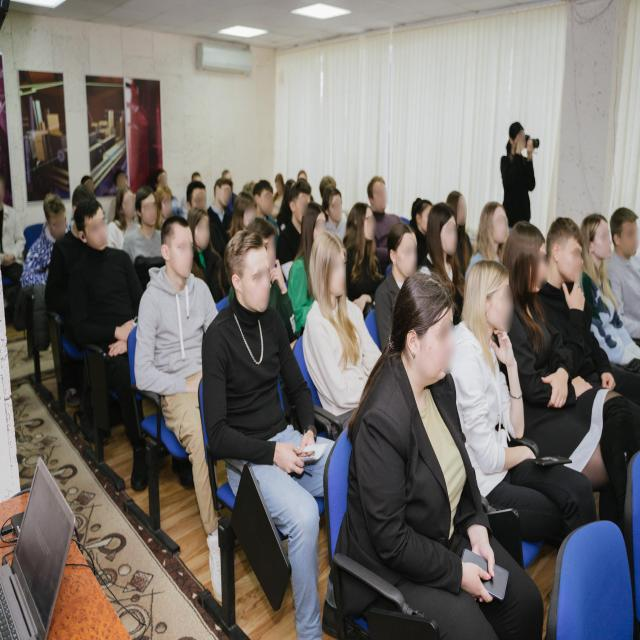Person: (358, 278, 465, 608), (205, 230, 293, 533), (139, 217, 214, 440), (50, 199, 136, 390), (452, 260, 518, 501), (503, 217, 554, 428), (302, 226, 354, 419), (538, 218, 588, 394), (30, 191, 79, 315), (369, 224, 424, 323), (500, 116, 546, 224), (607, 194, 640, 342), (580, 208, 612, 338), (422, 200, 464, 283), (473, 194, 512, 254), (286, 206, 329, 256), (318, 185, 348, 242), (373, 162, 401, 223), (278, 186, 310, 232), (134, 188, 158, 248), (252, 173, 280, 220), (194, 202, 212, 268), (204, 176, 234, 215), (116, 186, 142, 228), (232, 188, 256, 232), (285, 164, 310, 199), (155, 182, 175, 224), (114, 160, 133, 200), (72, 168, 100, 195), (186, 179, 203, 214)
